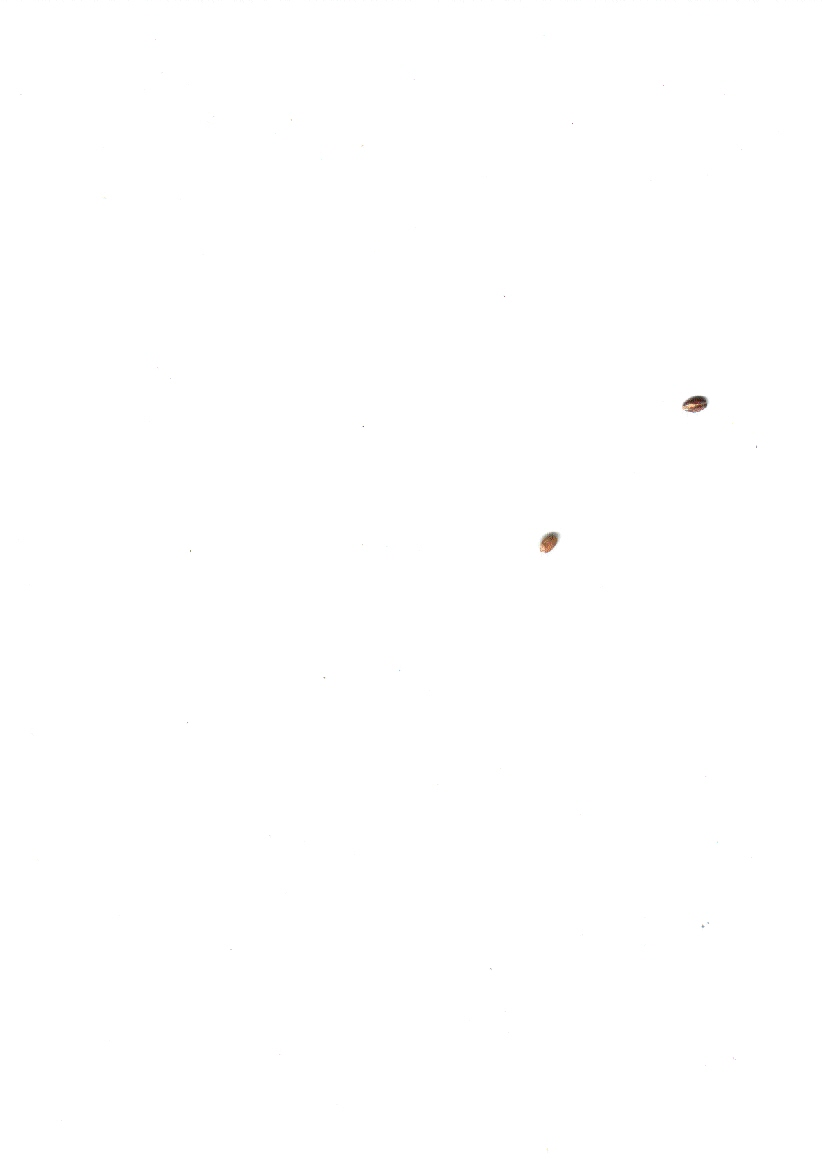grains: (673, 376, 718, 432), (529, 521, 572, 564)
